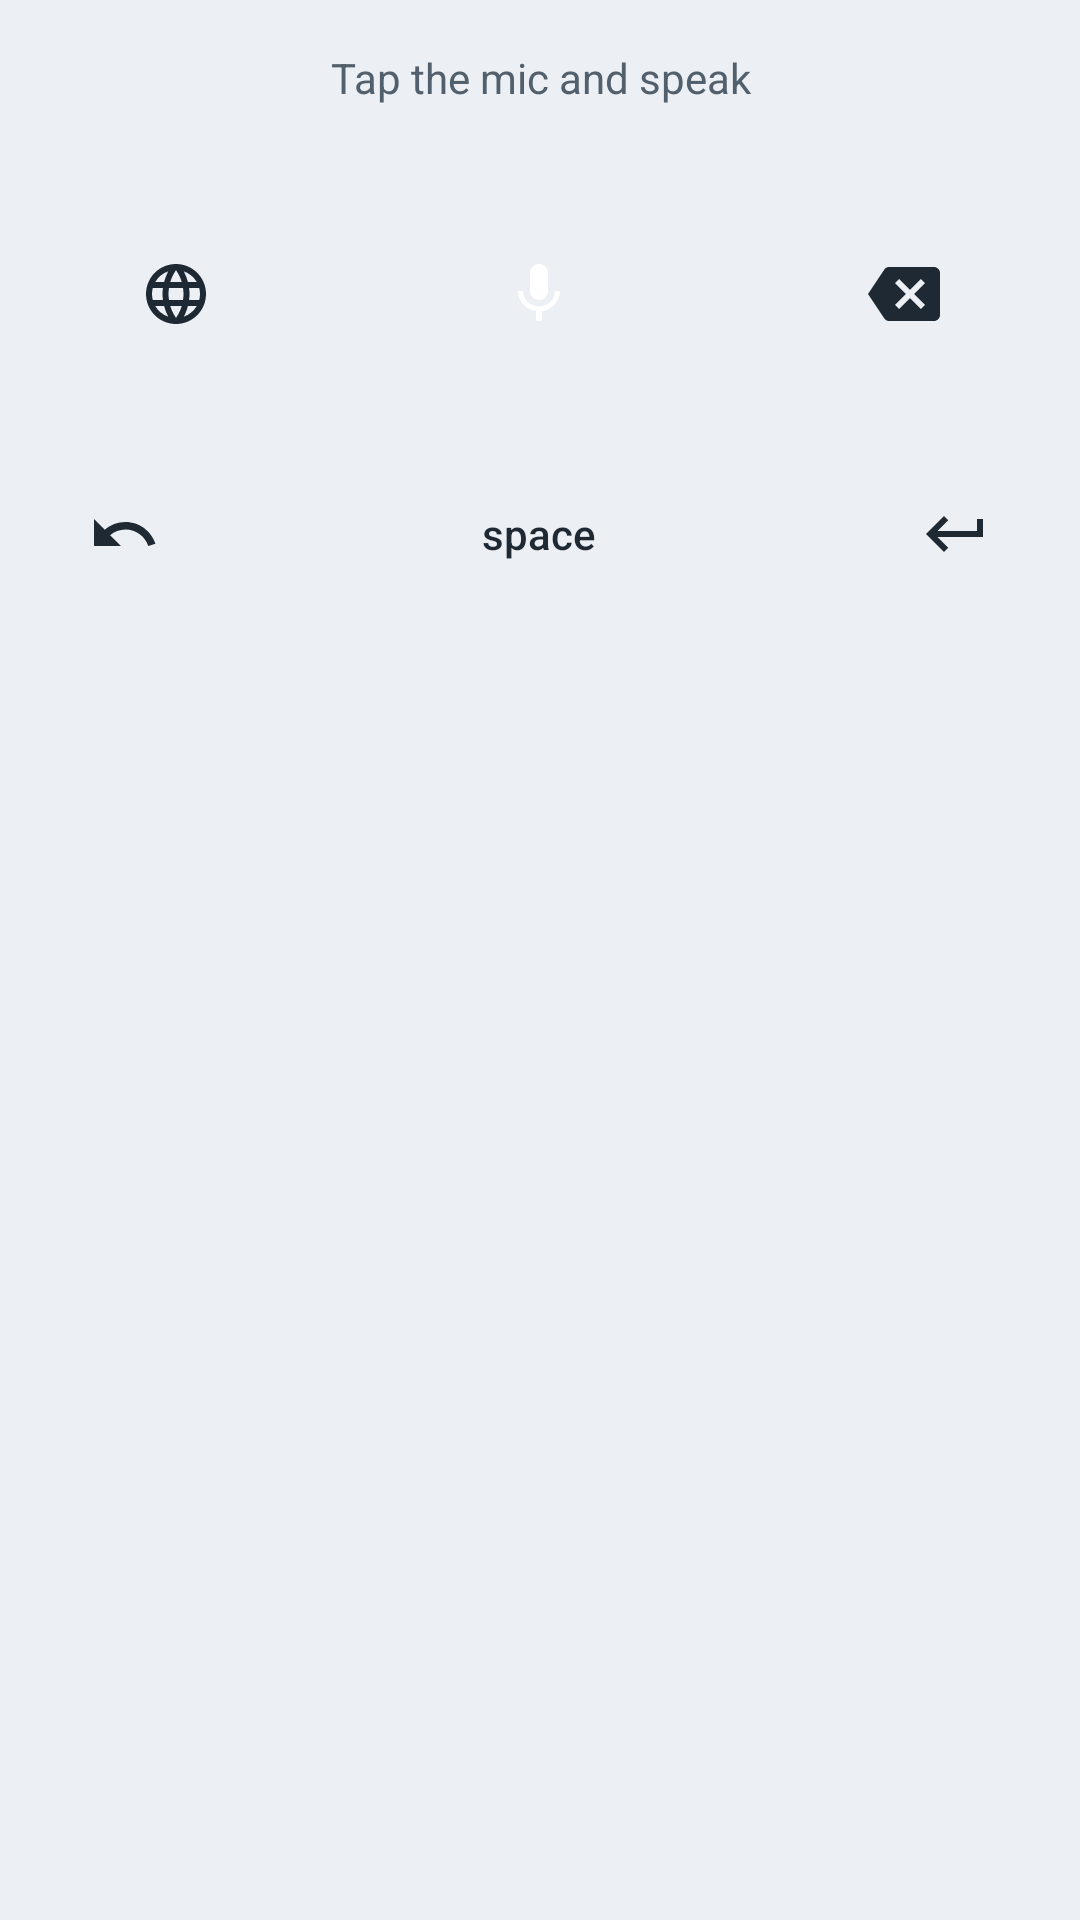

Locate icon controls on the screen. Image size 1080px x 1920px, boxes as (x1, y1, x2, y2).
Delete: (868, 267, 940, 321)
Enter: (926, 516, 983, 552)
Switch keyboard. Long-press to choose: (146, 264, 206, 324)
Undo last dictation: (94, 519, 156, 546)
